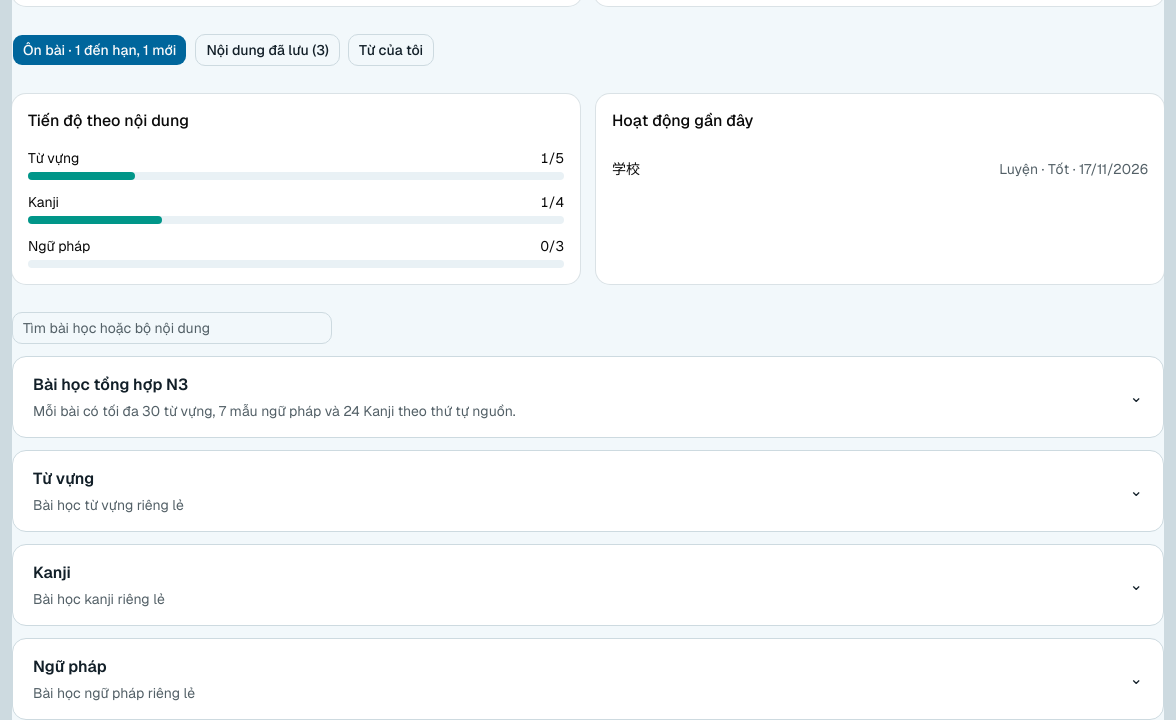
Scenario: learning home accordions › shows composite lessons beside the three subject accordions, collapsed by default
(page scrolled)
Expected: the element with id "composite-lessons" is shown, x1=12 y1=356 x2=1164 y2=438
Click the button "Ngữ pháp Bài học ngữ pháp riêng lẻ ⌄" at (70, 666), box x1=13 y1=639 x2=1163 y2=719
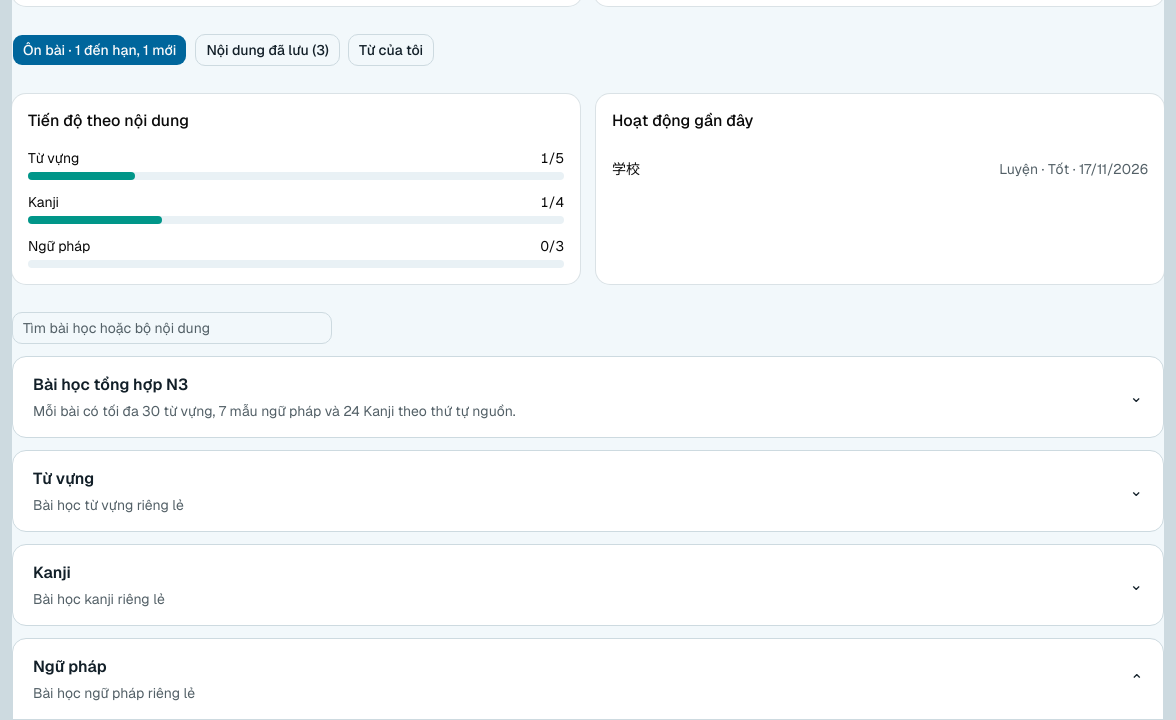
Expected: the button "Ngữ pháp Bài học ngữ pháp riêng lẻ ⌄" is expanded
Click the button "Ngữ pháp Bài học ngữ pháp riêng lẻ ⌄" at (70, 666), box x1=13 y1=639 x2=1163 y2=719
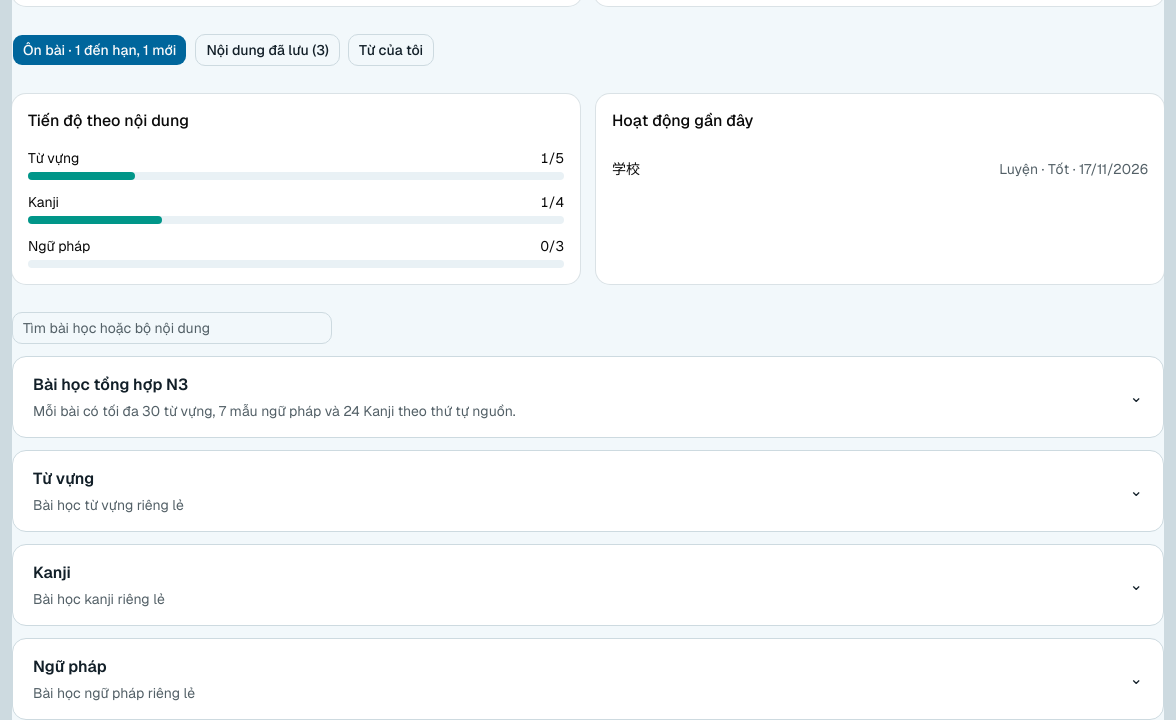
Expected: the button "Ngữ pháp Bài học ngữ pháp riêng lẻ ⌄" is collapsed, x1=13 y1=639 x2=1163 y2=719
